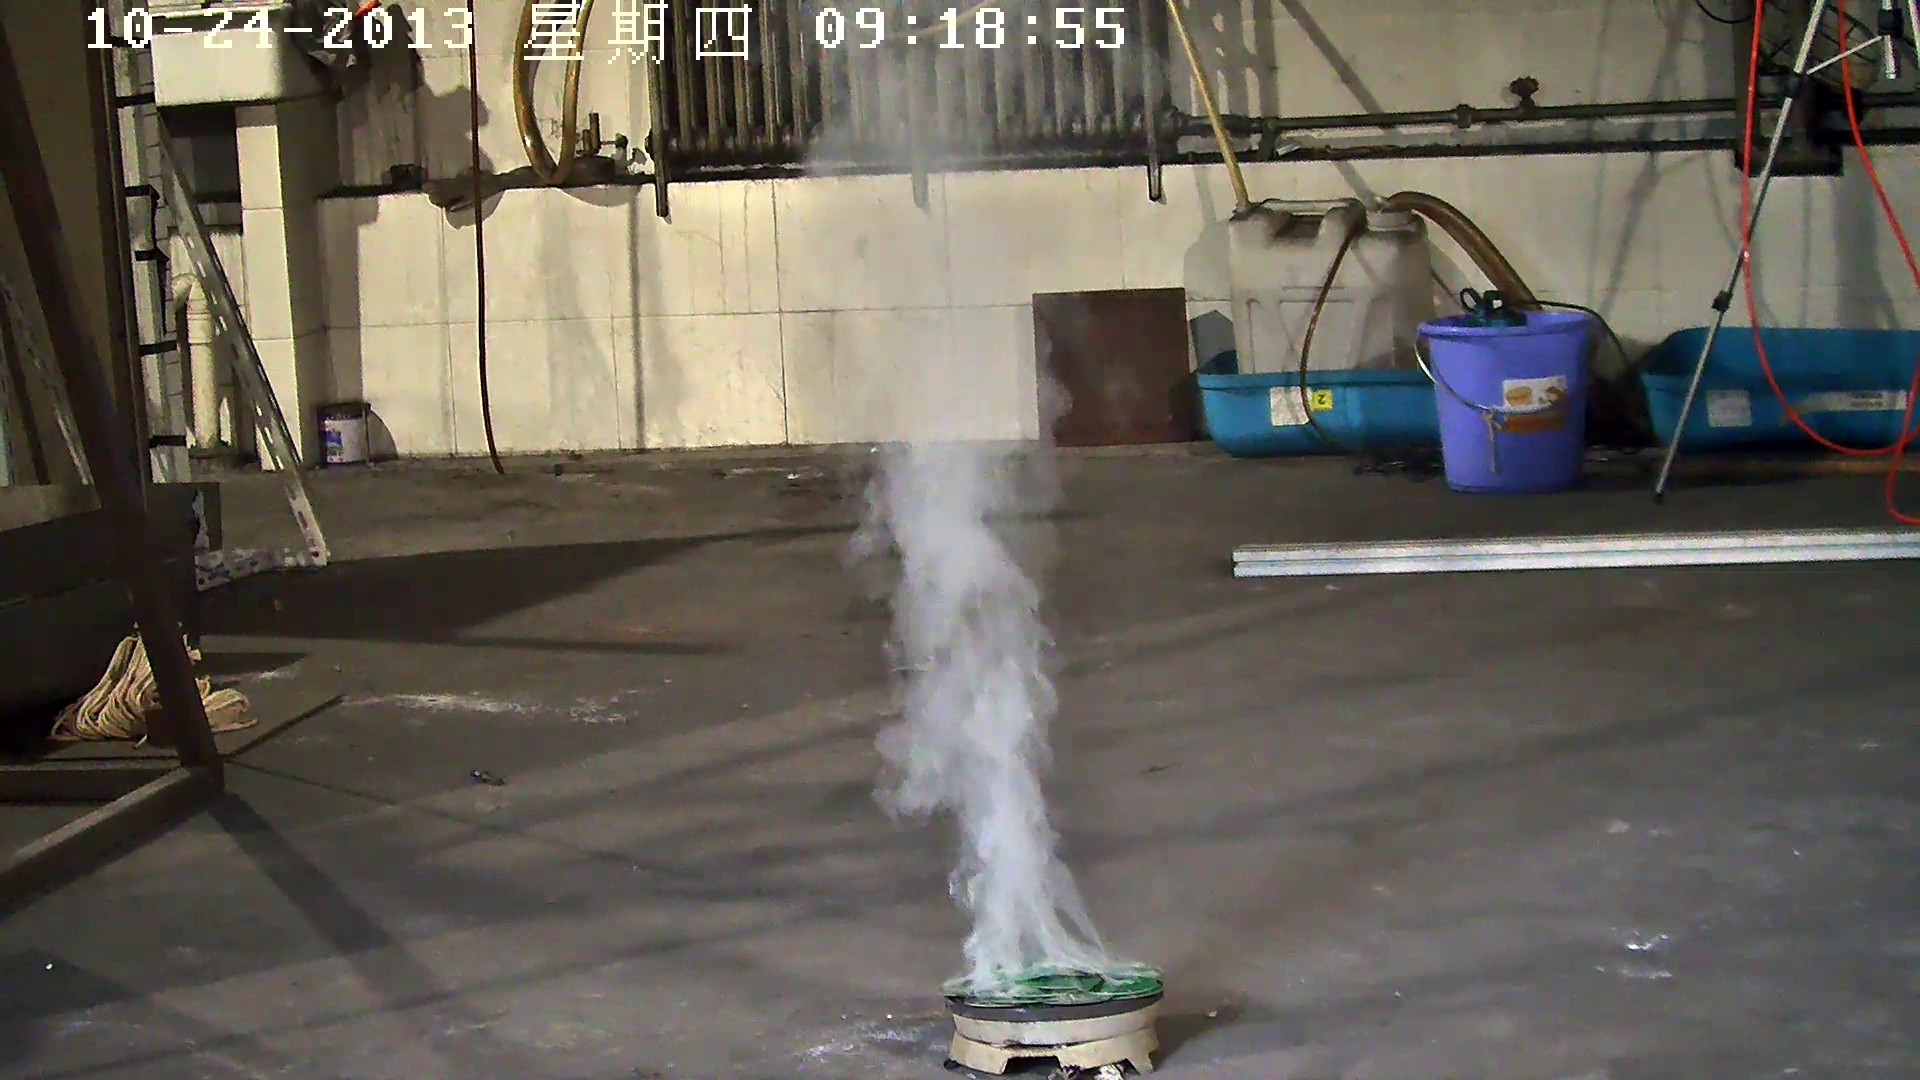smoke: (775, 102, 1168, 992)
